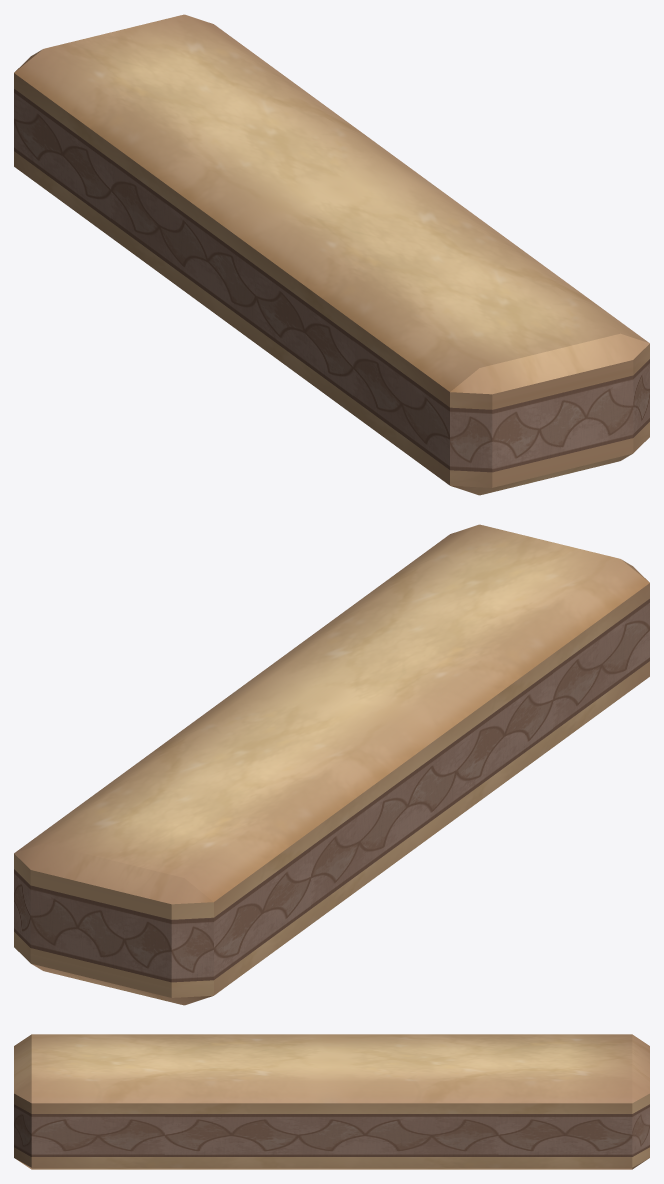
File: PlatformThin.fbx
3 renders of one model, top to bottom at view 1: azimuth 30°, elevation 25°; view 2: azimuth 150°, elevation 25°; view 3: azimuth 270°, elevation 25°, orthographic. The views are drawn at different scales.
Parts seen in each view (by area): view 1: Cube; view 2: Cube; view 3: Cube.
Boxes of the visible parts, x1=… form: Cube: x1=14, y1=14, x2=649, y2=495; Cube: x1=14, y1=524, x2=649, y2=1005; Cube: x1=14, y1=1034, x2=649, y2=1169.
Bounding box in the file's own units: 300 × 183 × 1200.
1 material, 1 textured.
